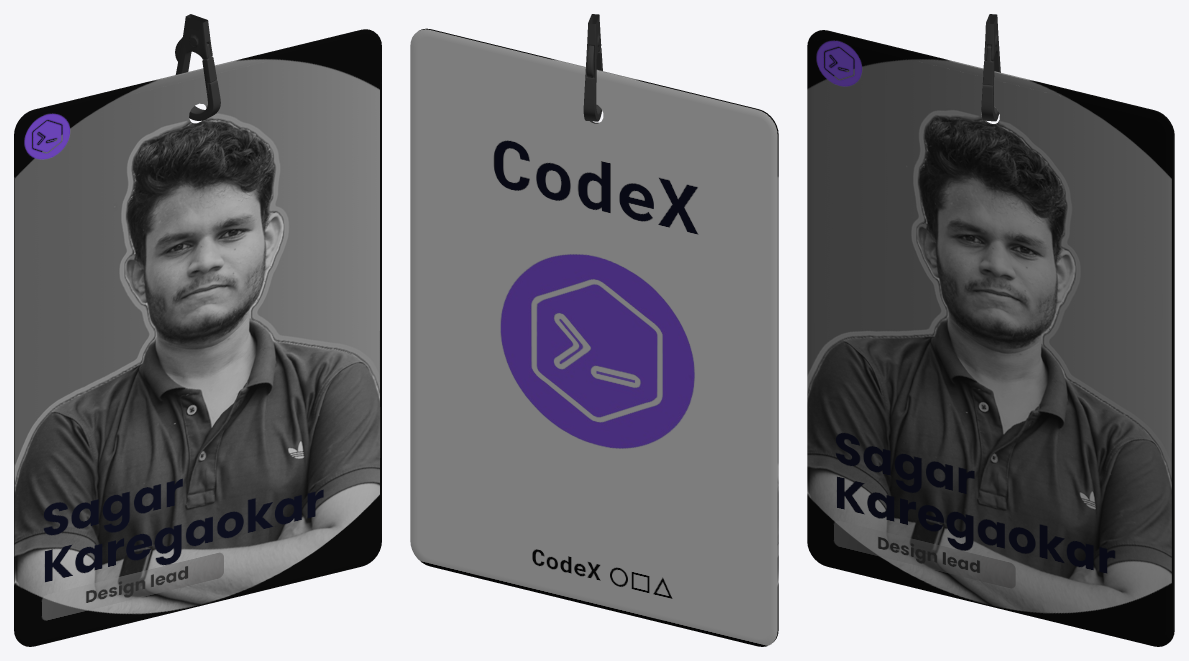
The model's file is sagar.glb.
3 renders of one model, left to right at view 1: azimuth 30°, elevation 25°; view 2: azimuth 150°, elevation 25°; view 3: azimuth 330°, elevation 25°, orthographic.
Parts seen in each view (by area): view 1: card, clamp; view 2: card, clamp; view 3: card, clamp.
Boxes of the visible parts, x1,y1,x2,y2 form: card: (14,29,381,646); clamp: (175,14,220,120); card: (410,28,778,646); clamp: (583,14,602,121); card: (807,30,1174,646); clamp: (981,14,1000,121).
Bounding box in the file's own units: 0.7164 × 1.1 × 0.0903.
Materials: 2 (1 with a texture image).
